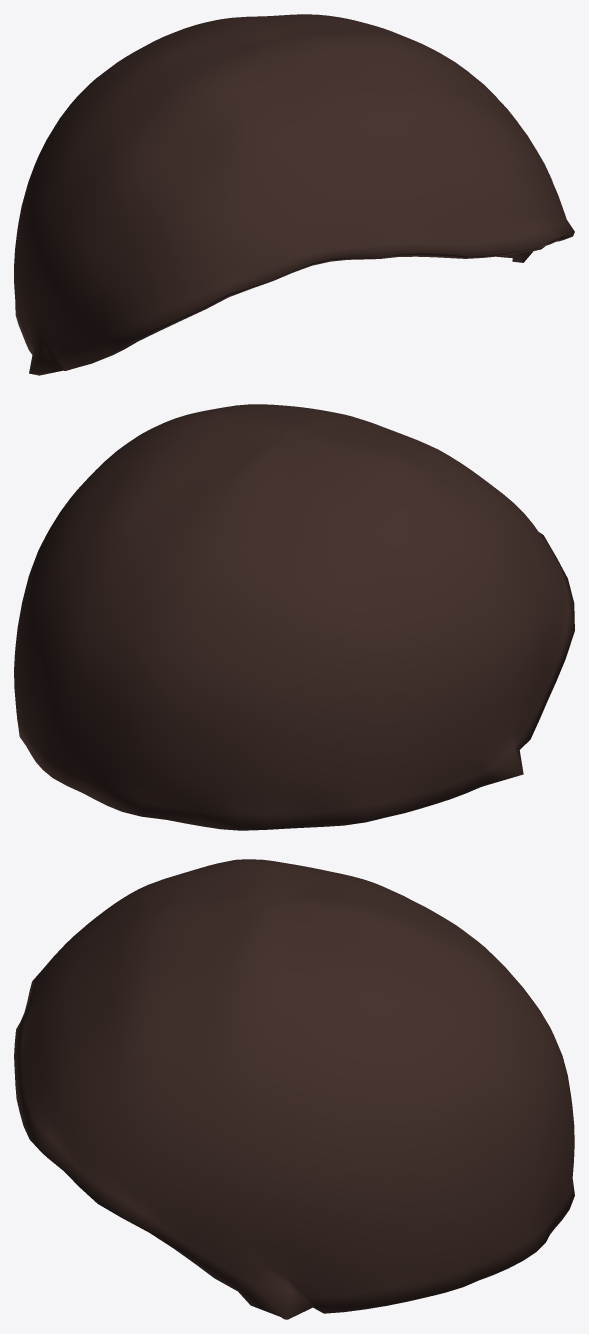
File: 2HT-feminino.glb
The picture shows the model from 3 angles, top to bottom: view 1: azimuth 30°, elevation 25°; view 2: azimuth 150°, elevation 25°; view 3: azimuth 270°, elevation 25°; orthographic projection. The views are drawn at different scales.
Parts seen in each view (by area): view 1: sculpted-scalp; view 2: sculpted-scalp; view 3: sculpted-scalp.
Boxes of the visible parts, <box> form: sculpted-scalp: <box>14,14,574,375</box>; sculpted-scalp: <box>14,404,574,830</box>; sculpted-scalp: <box>14,859,574,1319</box>.
Size of the model in its own units: 0.0703 by 0.0386 by 0.0647.
